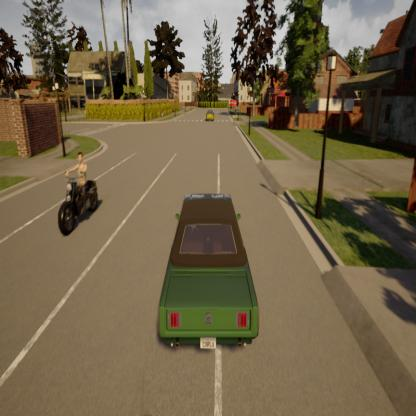Cars: (145, 183, 273, 368), (204, 107, 216, 122)
